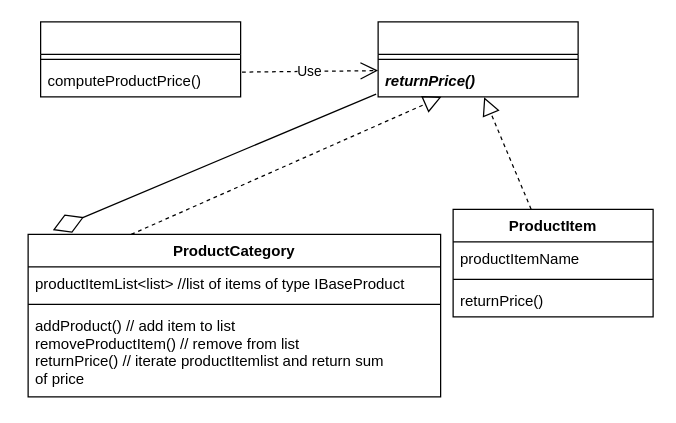
Image size: 676x423. Some labels were removed from this diagram. The shapes that lost their labels are listed below. From the top down, each one's box as (x1, y1, x2, y2) in pixels, then its label:
(39, 21, 241, 97): PricingCalculator
(377, 21, 578, 97): IBaseProduct
